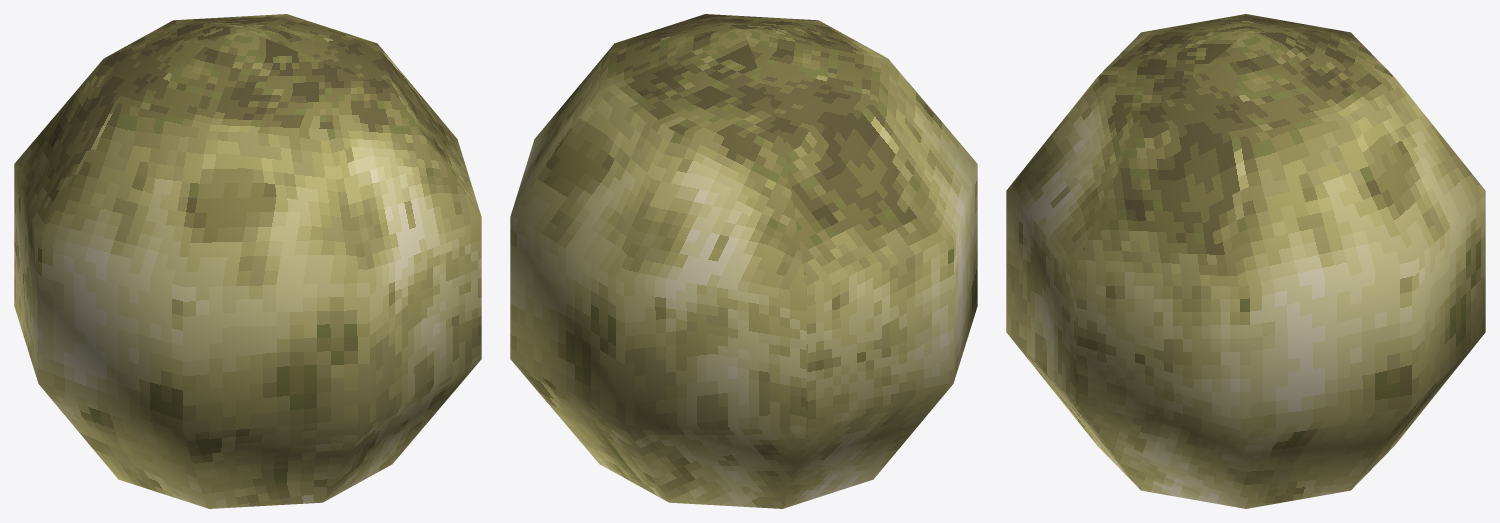
3 renders of one model, left to right at view 1: azimuth 30°, elevation 25°; view 2: azimuth 150°, elevation 25°; view 3: azimuth 270°, elevation 25°, orthographic.
Parts seen in each view (by area): view 1: 3286IMIG05_14; view 2: 3286IMIG05_14; view 3: 3286IMIG05_14.
Part boxes in pixels (x1=…): 3286IMIG05_14: x1=14, y1=14, x2=481, y2=508; 3286IMIG05_14: x1=510, y1=14, x2=977, y2=508; 3286IMIG05_14: x1=1006, y1=14, x2=1485, y2=508.
Bounding box in the file's own units: 0.9512 × 1 × 0.9512.
1 material, 1 textured.
